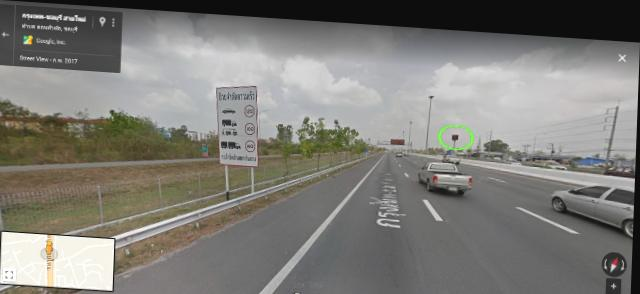limit100: (246, 119, 256, 132)
limit120: (245, 102, 256, 115)
limit80: (246, 137, 256, 148)
